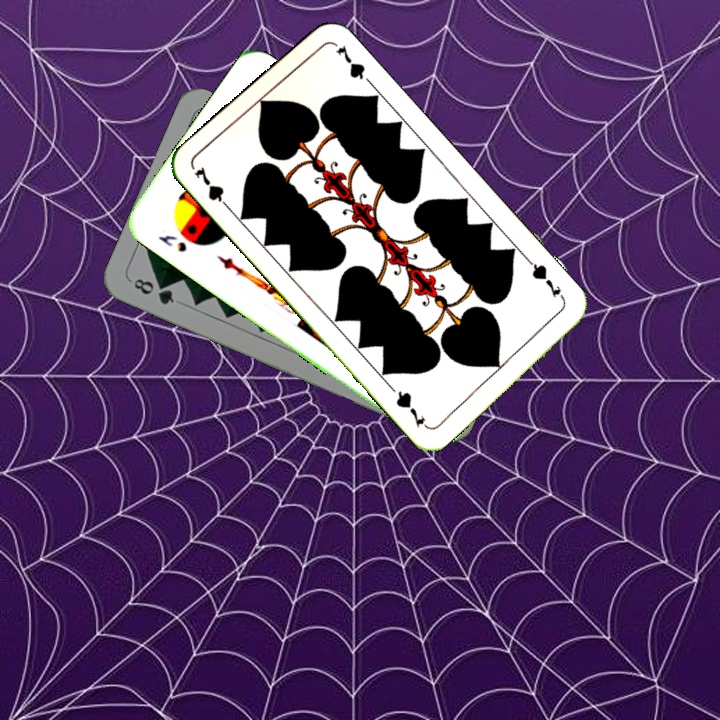G7: (189, 162, 235, 214), (524, 256, 568, 305)
G8: (129, 274, 177, 307)
SK: (153, 230, 190, 255)
